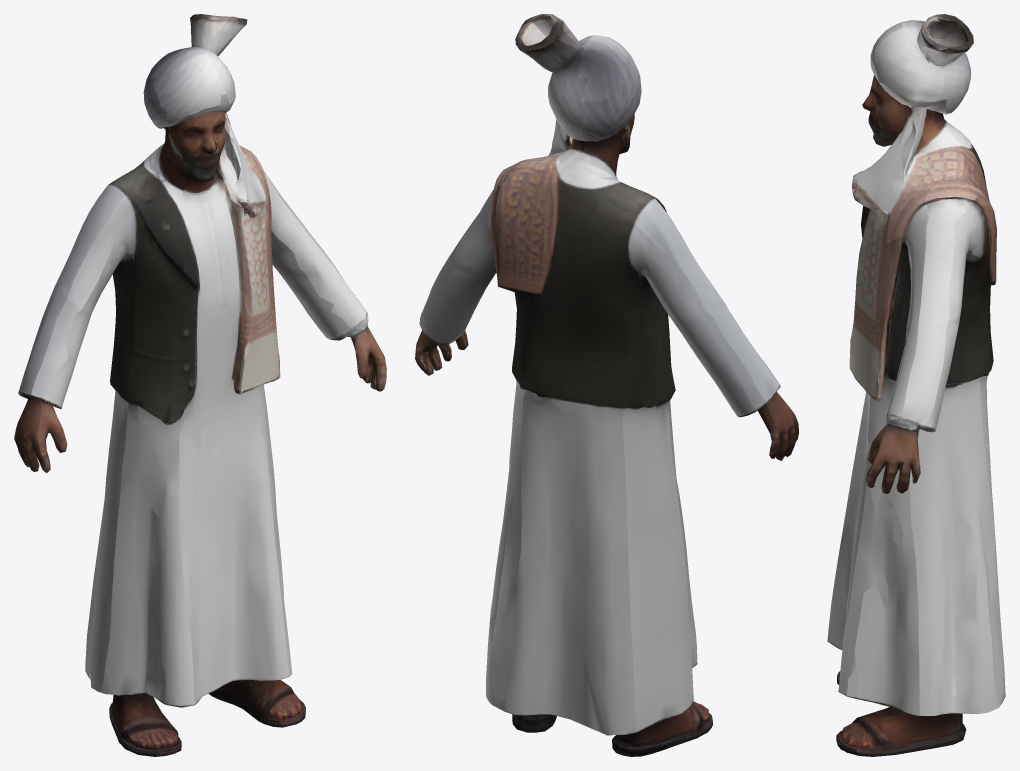
The model's file is ritchman.glb.
3 views of the same model, side by side, from view 1: azimuth 30°, elevation 25°; view 2: azimuth 150°, elevation 25°; view 3: azimuth 270°, elevation 25° (orthographic). The views are drawn at different scales.
Visible parts, largest first — view 1: world; view 2: world; view 3: world.
Part boxes in pixels (x1,y1,x2,y2): world: (14, 14, 386, 756); world: (415, 14, 798, 756); world: (827, 14, 1005, 756).
Size of the model in its own units: 0.5479 by 1 by 0.2276.
1 material, 1 textured.
